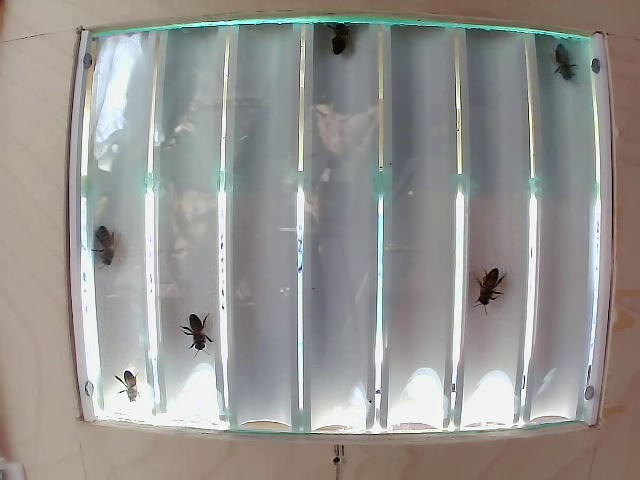bee: (102, 361, 158, 405), (318, 14, 367, 61), (183, 298, 218, 356), (81, 235, 126, 273), (547, 33, 574, 94), (479, 260, 509, 305)
